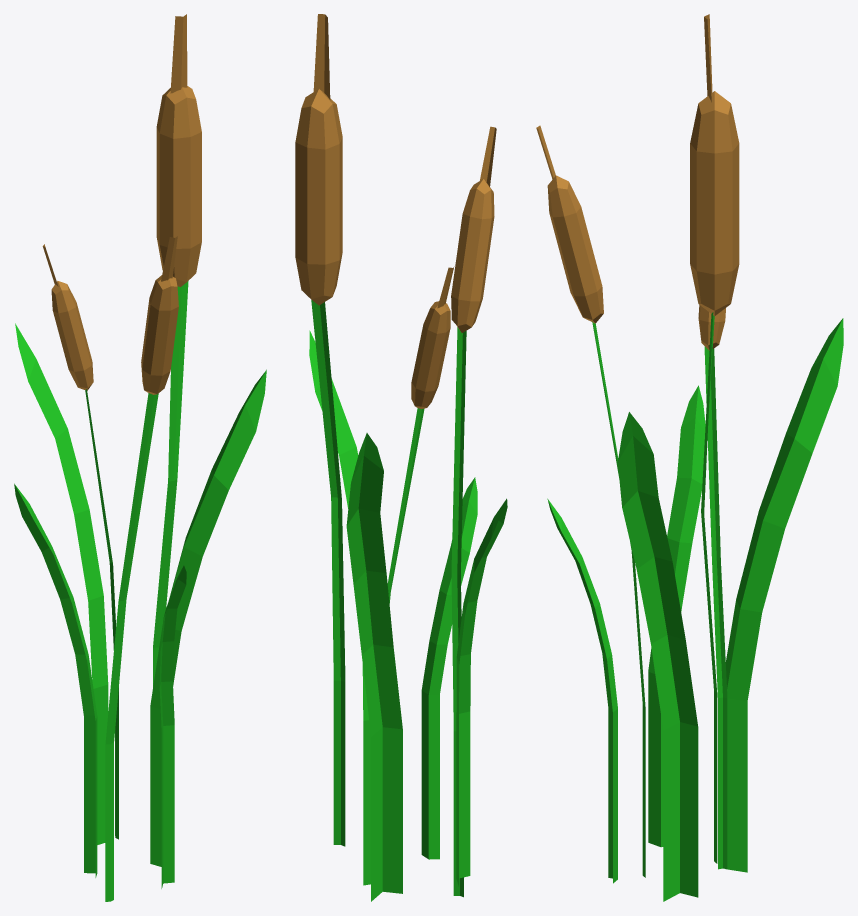
File: Cattail.fbx
The picture shows the model from 3 angles, left to right: view 1: azimuth 30°, elevation 25°; view 2: azimuth 150°, elevation 25°; view 3: azimuth 270°, elevation 25°; orthographic projection. The views are drawn at different scales.
Visible parts, largest first — view 1: Cattail; view 2: Cattail; view 3: Cattail.
Boxes of the visible parts, left/top/right/bottom form: Cattail: left=14, top=14, right=266, bottom=901; Cattail: left=295, top=14, right=507, bottom=901; Cattail: left=536, top=14, right=843, bottom=901.
Bounding box in the file's own units: 49.36 × 180 × 54.82.
